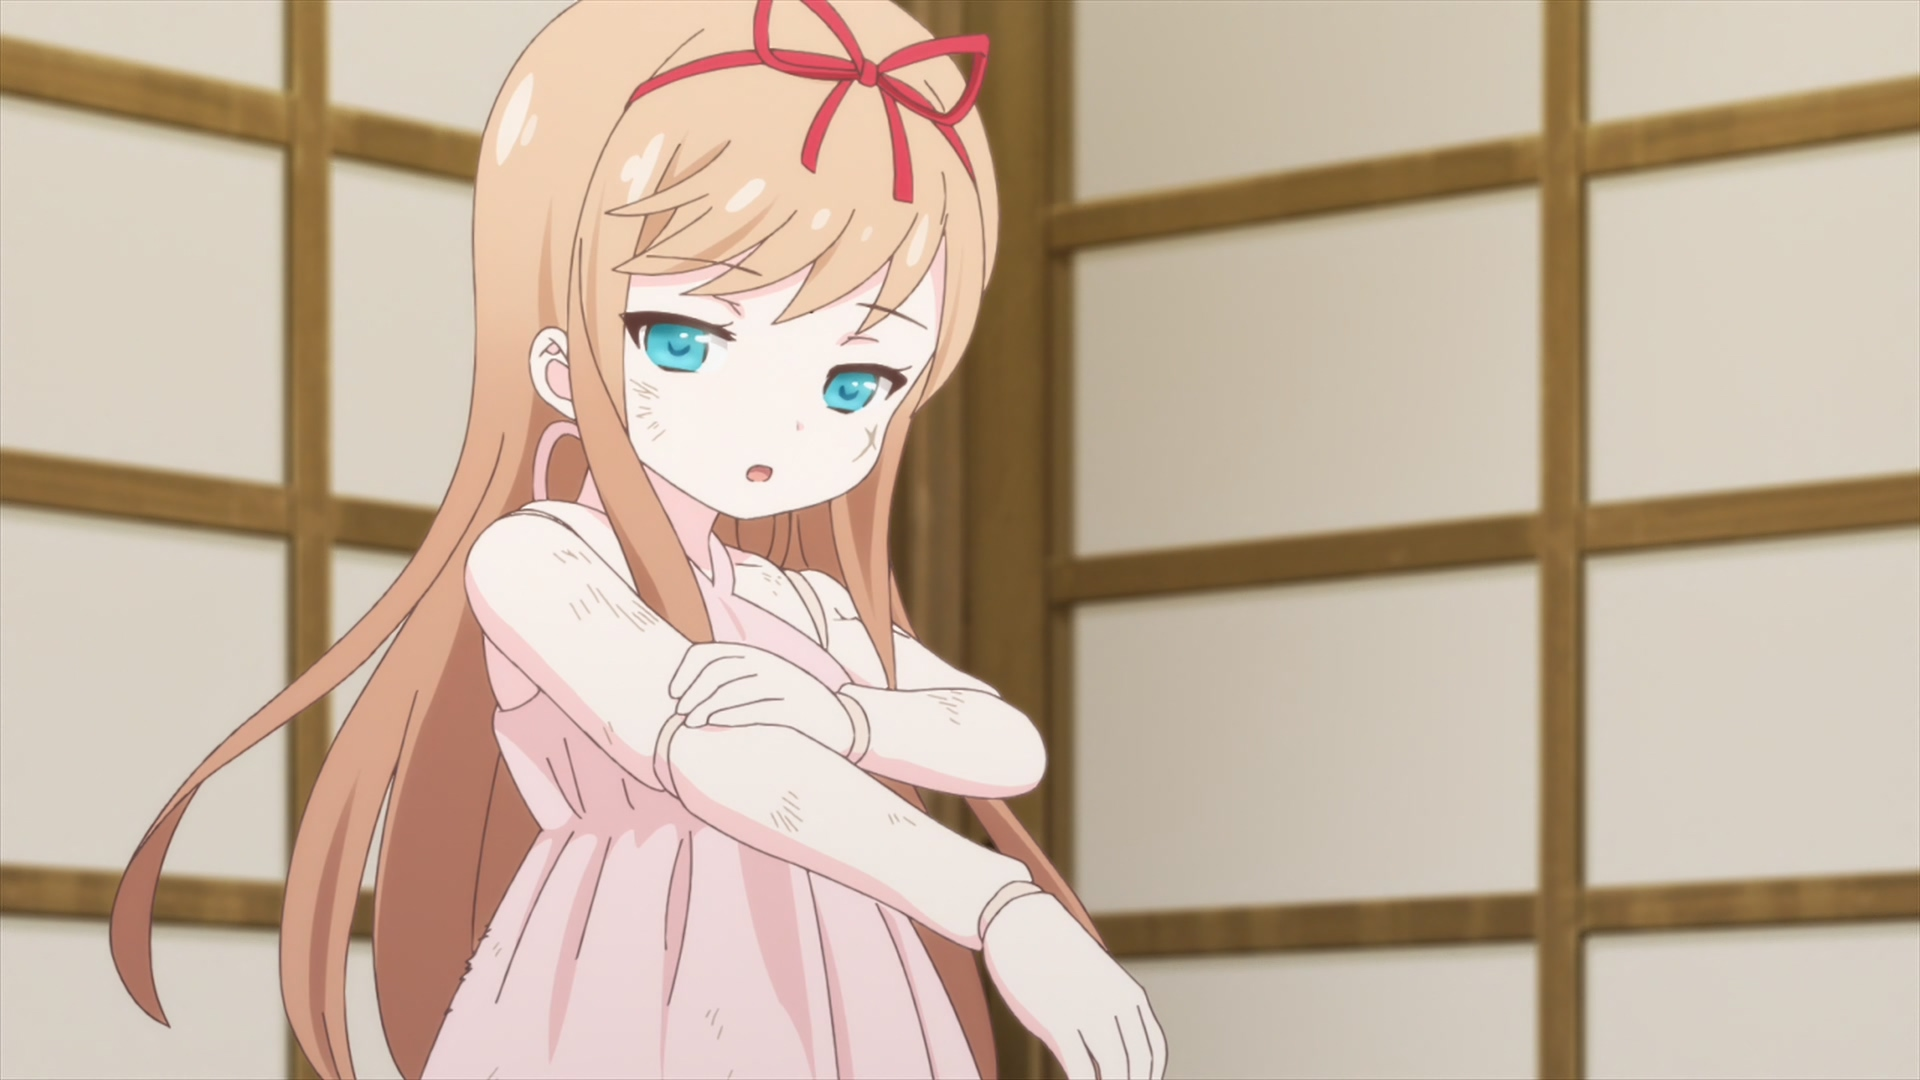其他: (108, 1, 1170, 1080)
